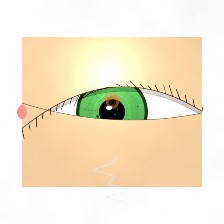foreign_body_visible: (92, 86, 133, 119)
